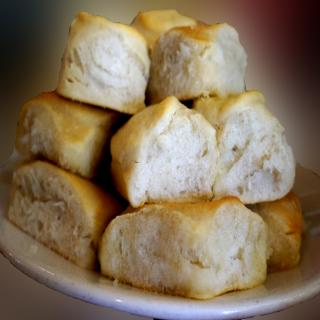Bread: (6, 8, 302, 296), (146, 11, 244, 103)
